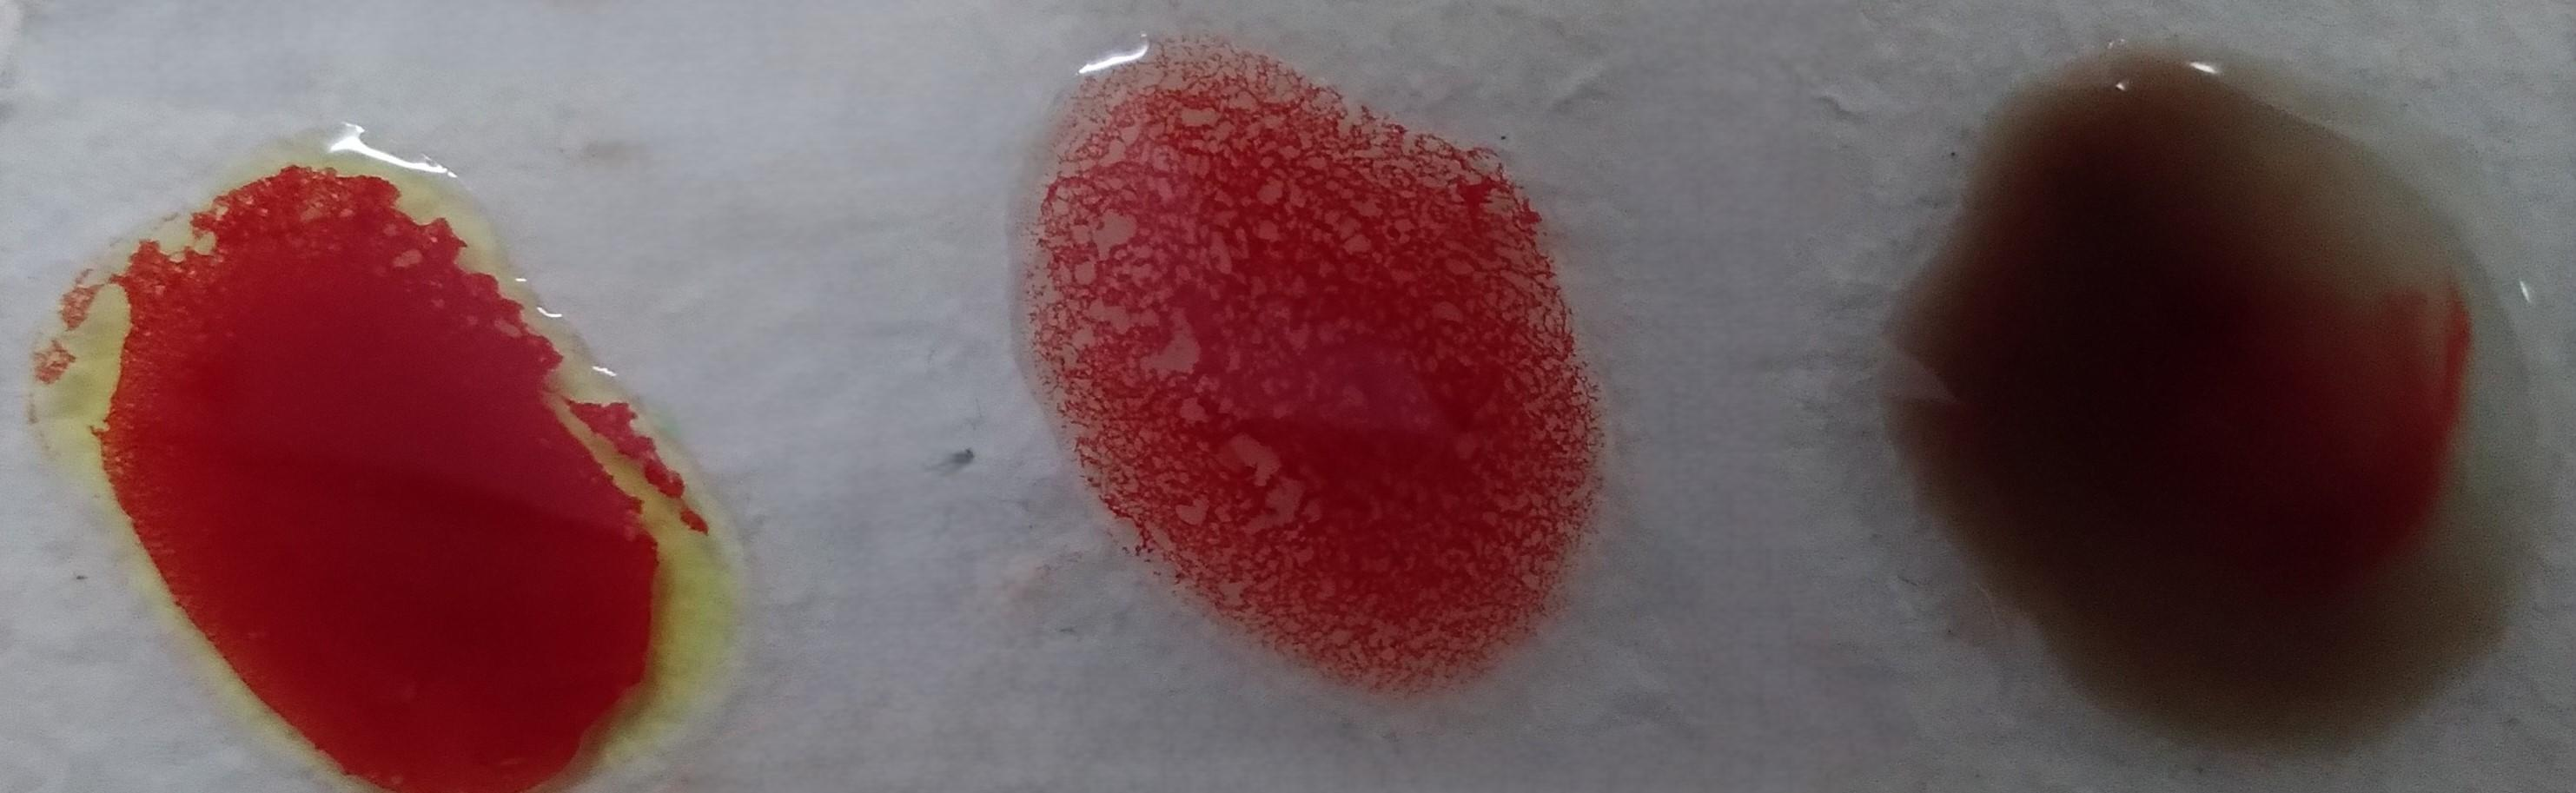B: (84, 131, 739, 793)
D: (1035, 33, 1587, 706)
